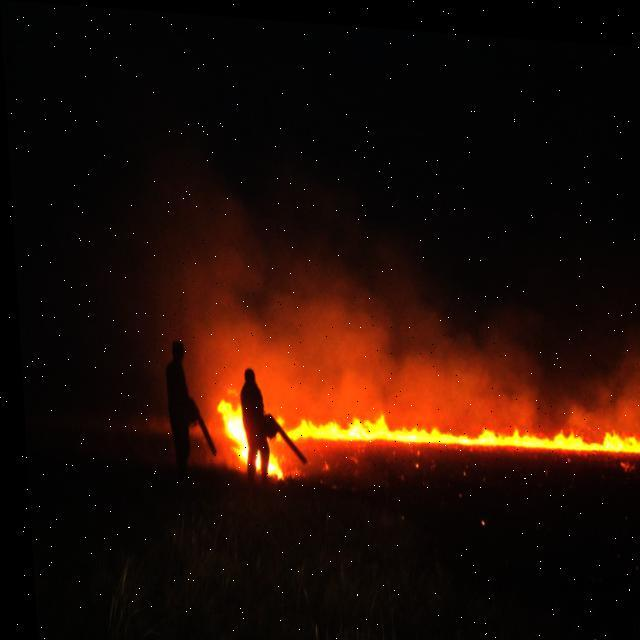Fire: (209, 383, 639, 502)
